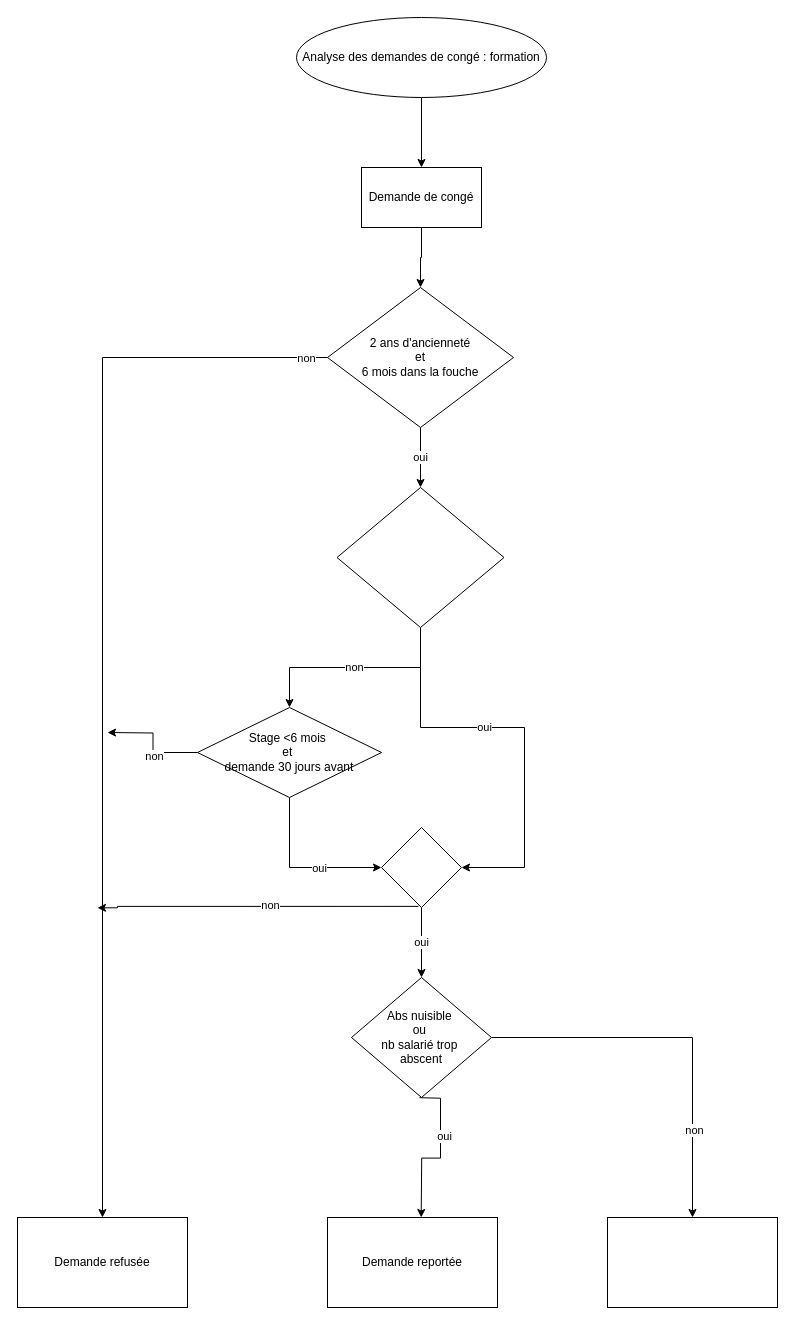
This 795x1325 diagram has some shape labels left out. The shapes that lost their labels are listed below. From the top down, each one's centre as x and y in pixels, then its label:
At (420,557): "Stage > 6 mois et demande 60 jours avant".
At (421,867): "Délai de franchise >6 mois".
At (692,1262): "Demande Accepté".
